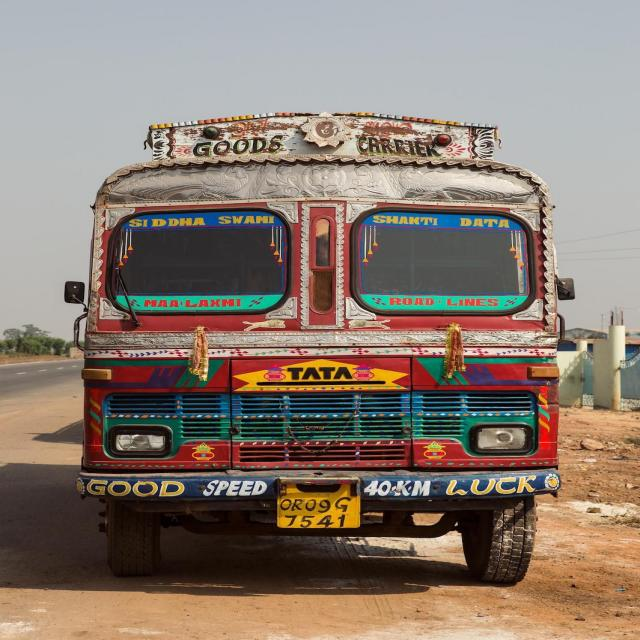Truck: (73, 118, 577, 591), (104, 0, 106, 28)
